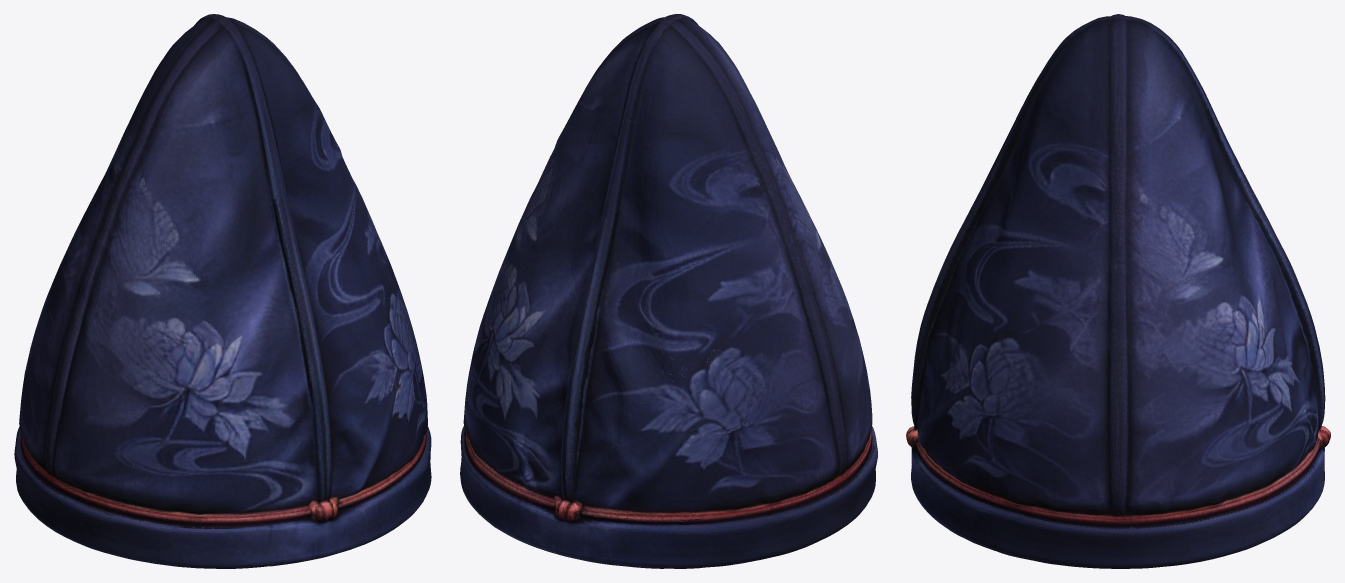
The model's file is mitsue_clerk_hat_source.glb.
3 renders of one model, left to right at view 1: azimuth 30°, elevation 25°; view 2: azimuth 150°, elevation 25°; view 3: azimuth 270°, elevation 25°, orthographic.
Parts seen in each view (by area): view 1: temp_mesh.ply; view 2: temp_mesh.ply; view 3: temp_mesh.ply.
Boxes of the visible parts, x1,y1,x2,y2 form: temp_mesh.ply: [14, 14, 431, 568]; temp_mesh.ply: [460, 14, 877, 568]; temp_mesh.ply: [906, 14, 1330, 568].
Size of the model in its own units: 1.61 by 1.97 by 1.63.
Materials: 1 (1 with a texture image).
